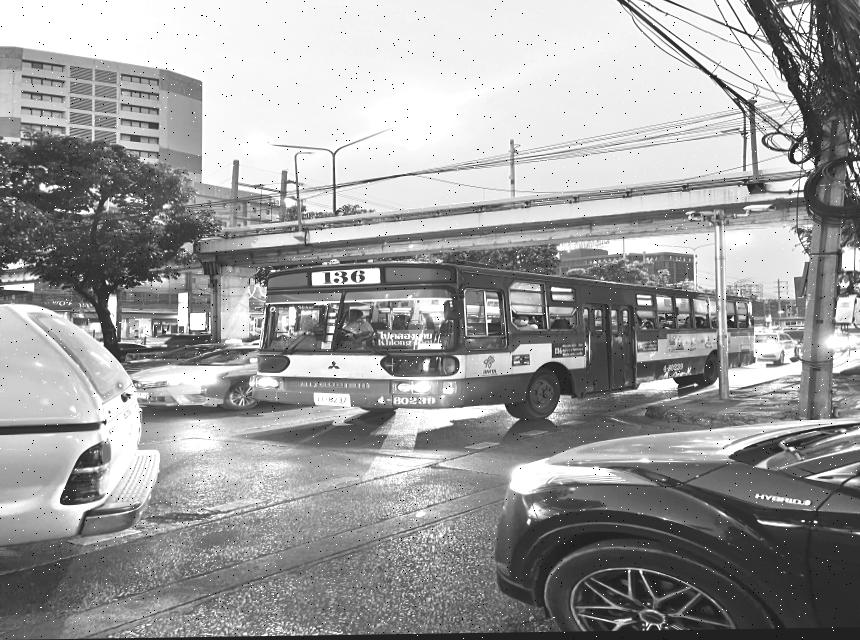BMTA-bus: (248, 263, 724, 427)
Bus Line Number: (311, 270, 380, 286)
Bus Side Number: (375, 396, 439, 408)
Destination Sign: (376, 330, 433, 348)
